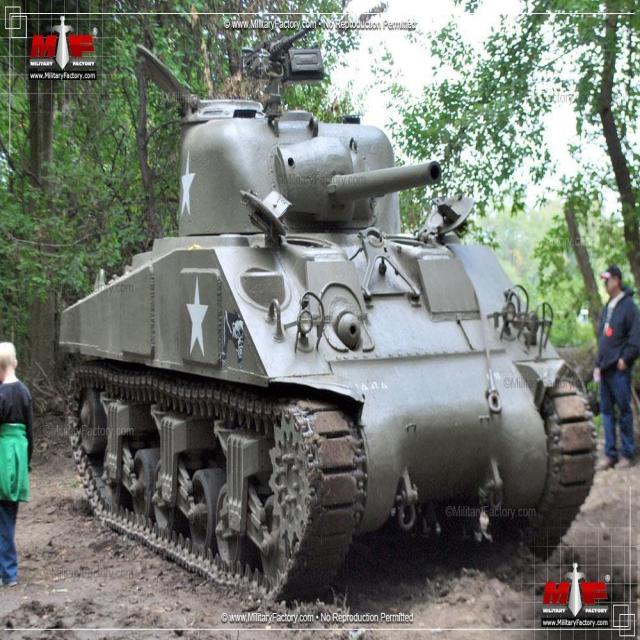Tanks: (54, 28, 599, 600)
